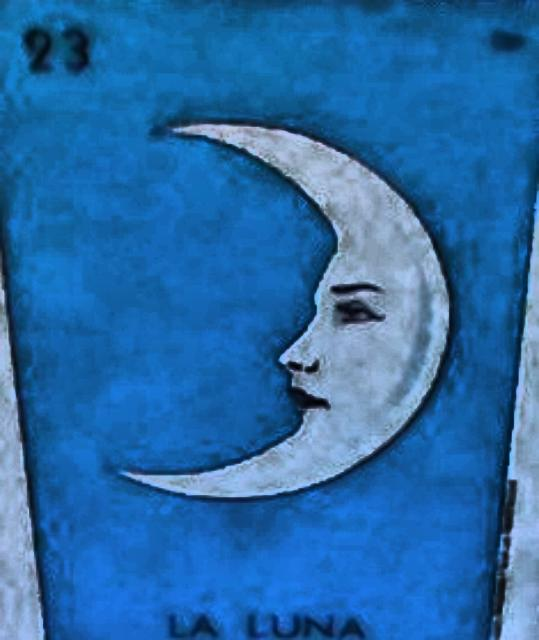La Luna: (0, 1, 537, 638)
